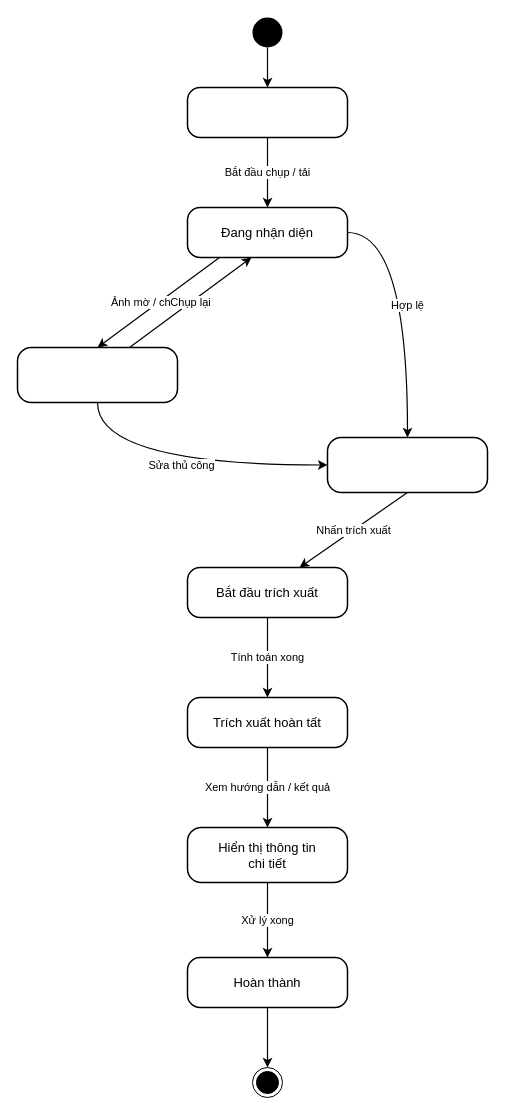
Image size: 506x1115. Some labels were removed from this diagram. The shapes that lost their labels are listed below. From the top down, each one's centre as x and y in pixels, then its label:
the point at 267,112: Chờ nhận diện
the point at 97,374: Nhận diện không hợp lệ
the point at 407,464: Nhận diện thành công
